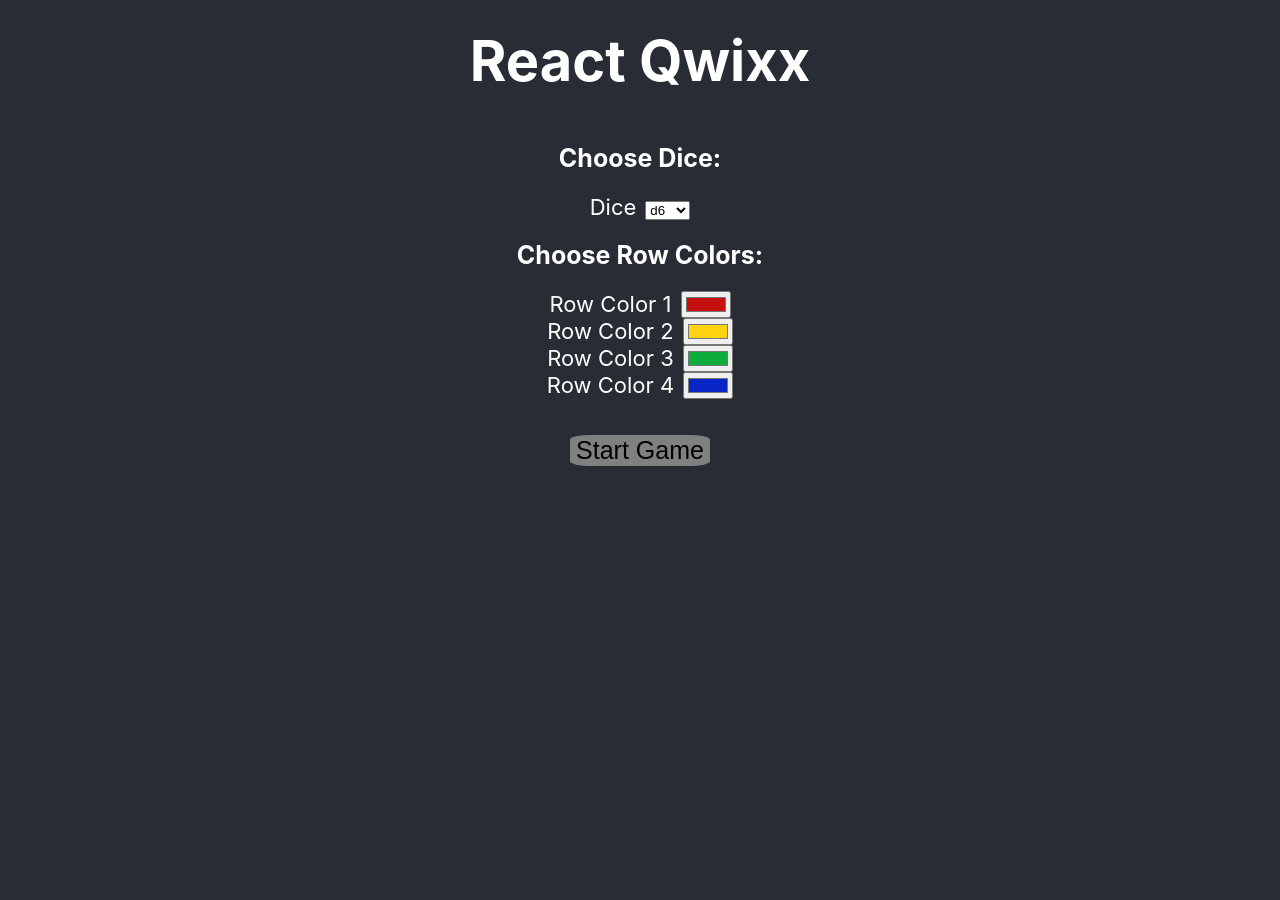
Test: renders scoreboard for dice type selected on start form
Select "d12" in the dropdown labelled "Dice" at (668, 210), box [645,200,690,220]
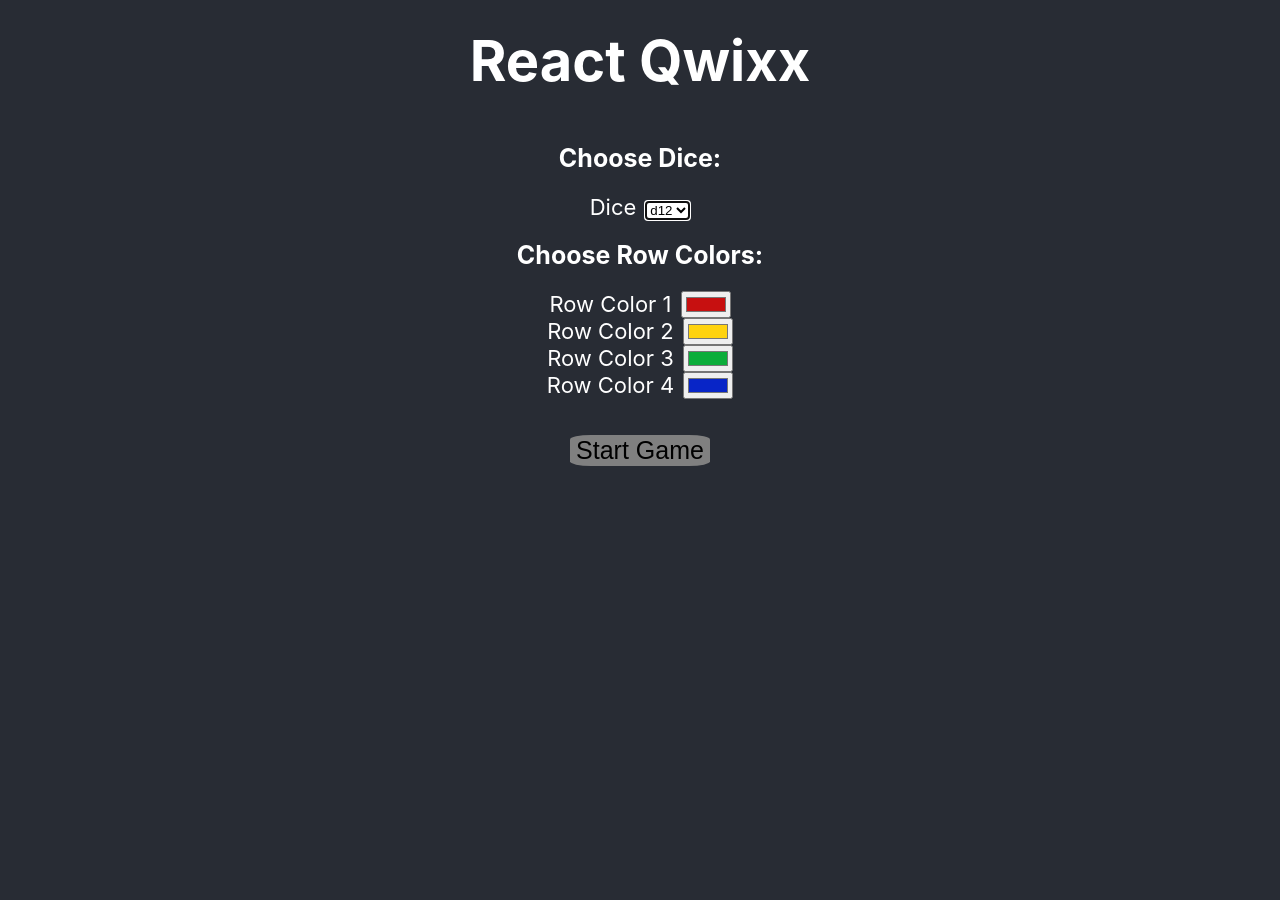
Click the button "Start Game" at (640, 450), box [570,435,710,466]
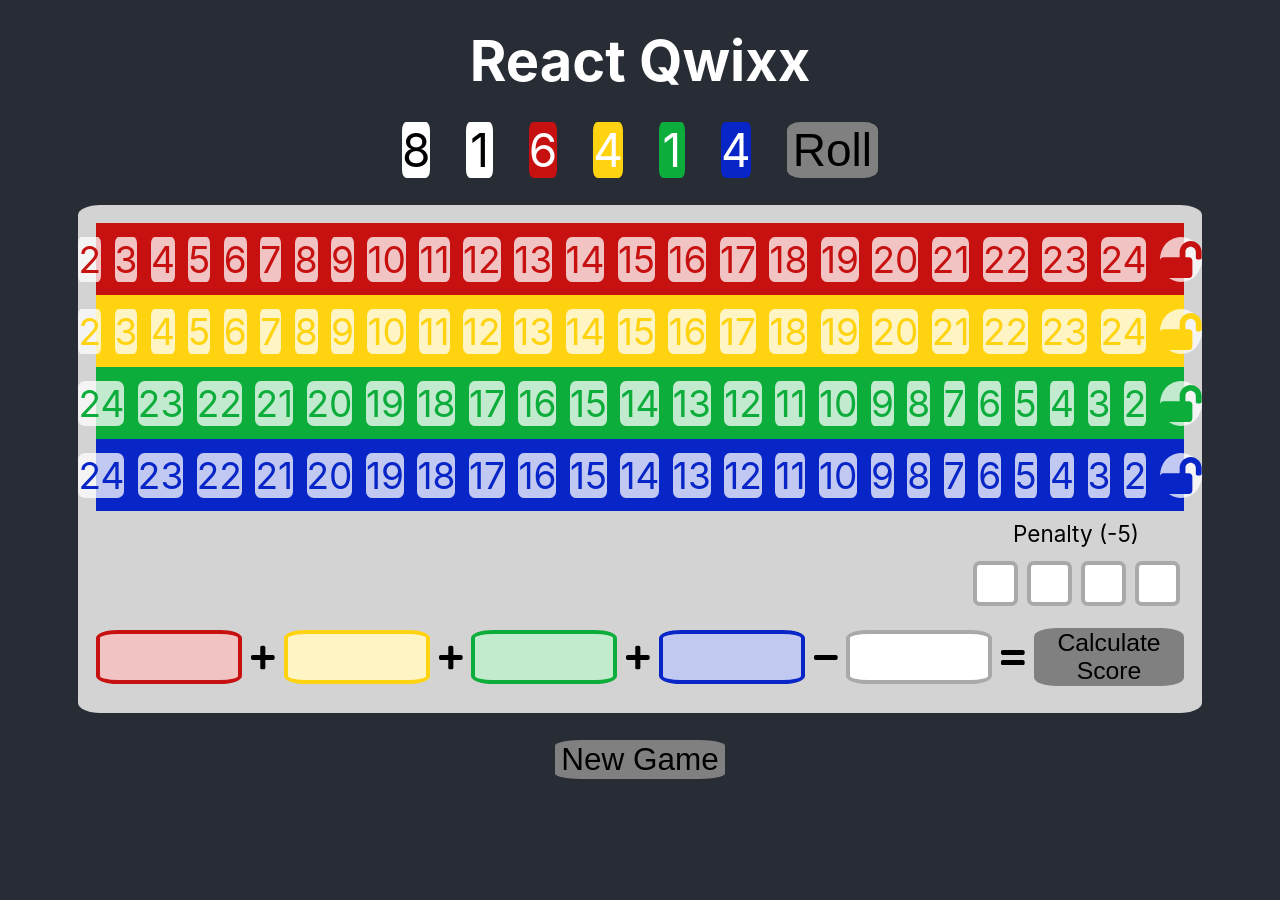
Now the text "24" is shown 4 times, box [1100,236,1146,282]; [1100,308,1146,354]; [78,380,124,426]; [78,452,124,498]
